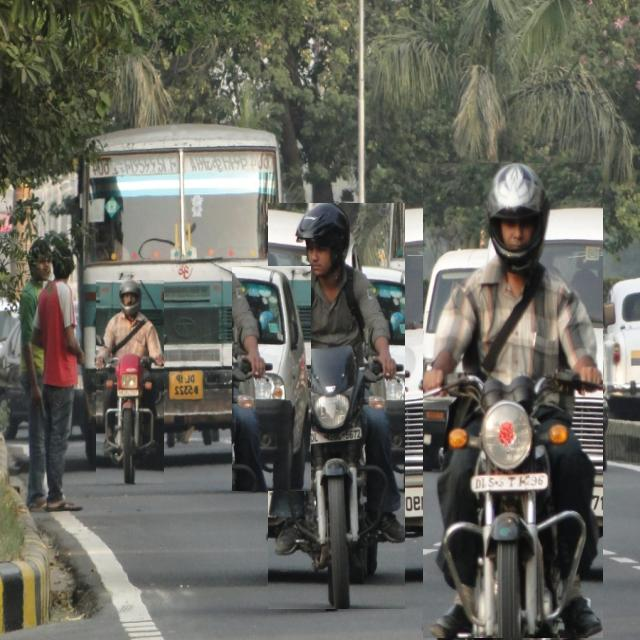bus: (79, 125, 284, 465)
car: (232, 266, 310, 491)
motorcycle: (423, 164, 602, 638), (268, 204, 405, 609)
truck: (96, 280, 164, 483)
